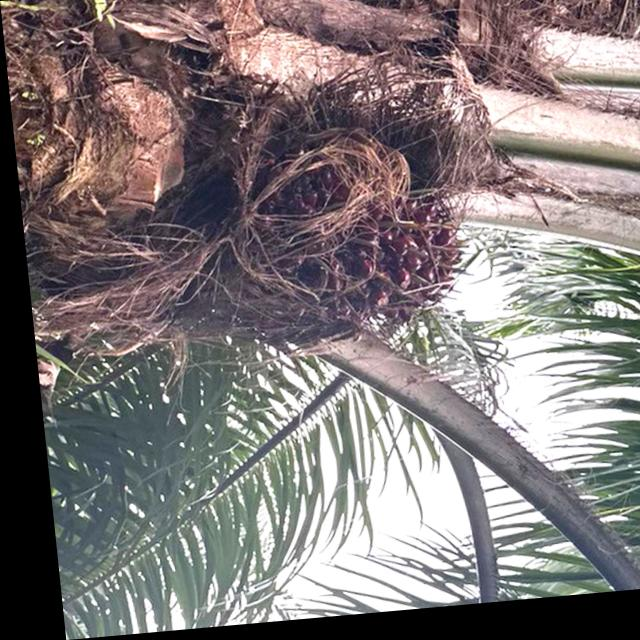ripe: (218, 123, 479, 367)
